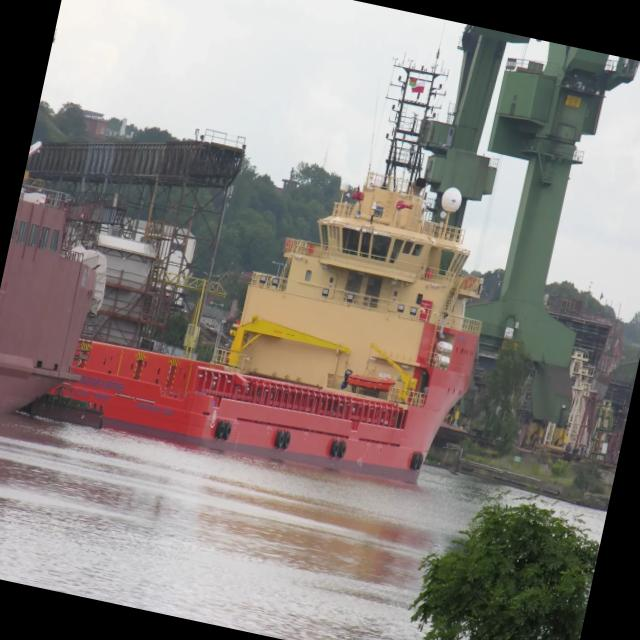Offshore: (72, 66, 481, 482)
